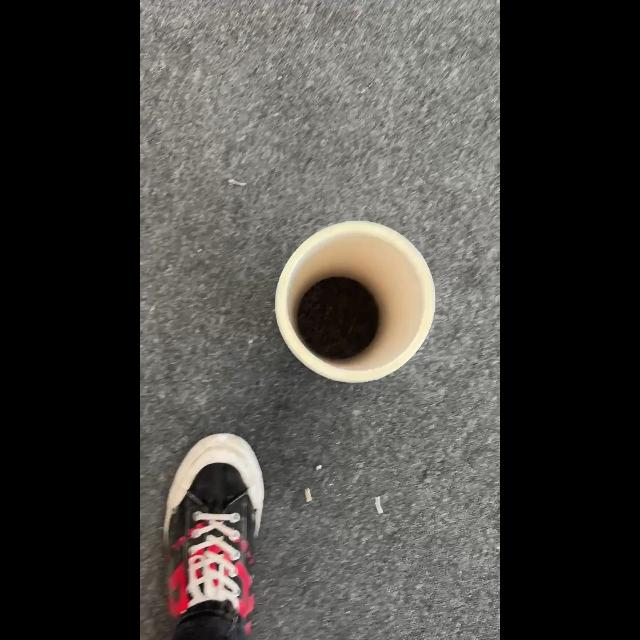CORAL: (274, 218, 436, 384)
